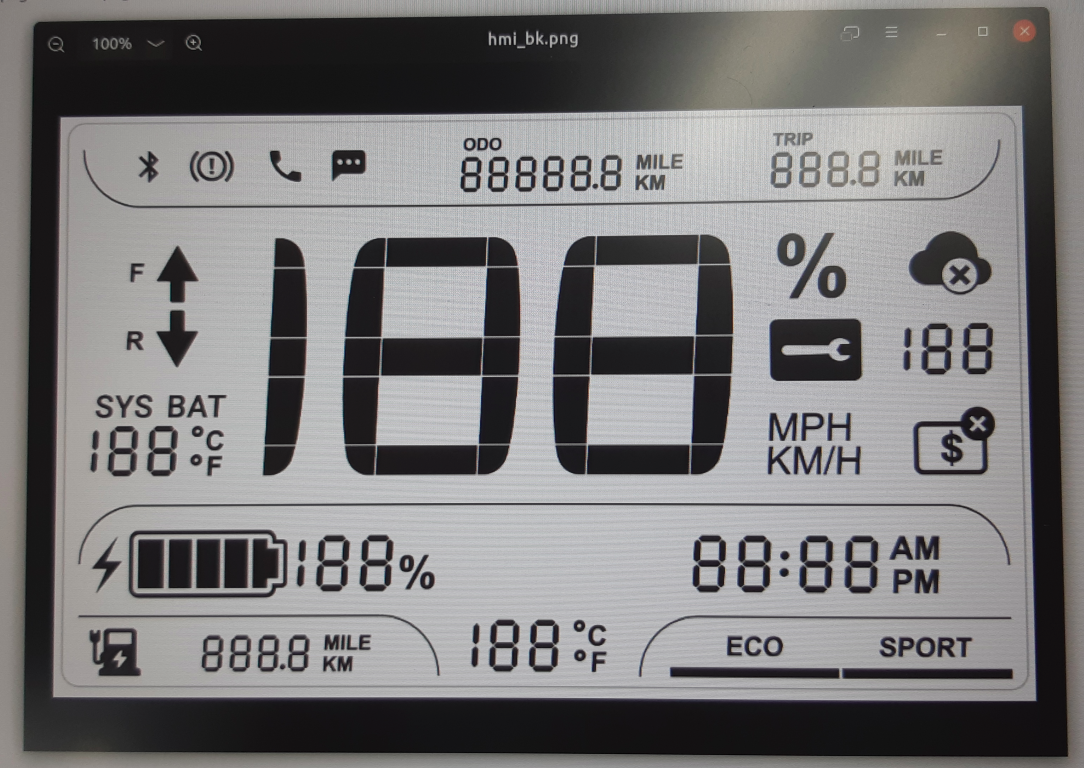bluetooth_on: (134, 146, 165, 185)
braking_on: (183, 145, 237, 187)
calling_on: (265, 147, 306, 184)
connection_lost: (905, 228, 995, 300)
error_code: (766, 314, 866, 384)
low_battery: (85, 623, 144, 679)
sms_on: (327, 147, 369, 184)
vin_id: (909, 404, 997, 478)
